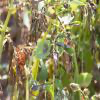Potato leaf late blight: (34, 40, 51, 59)
